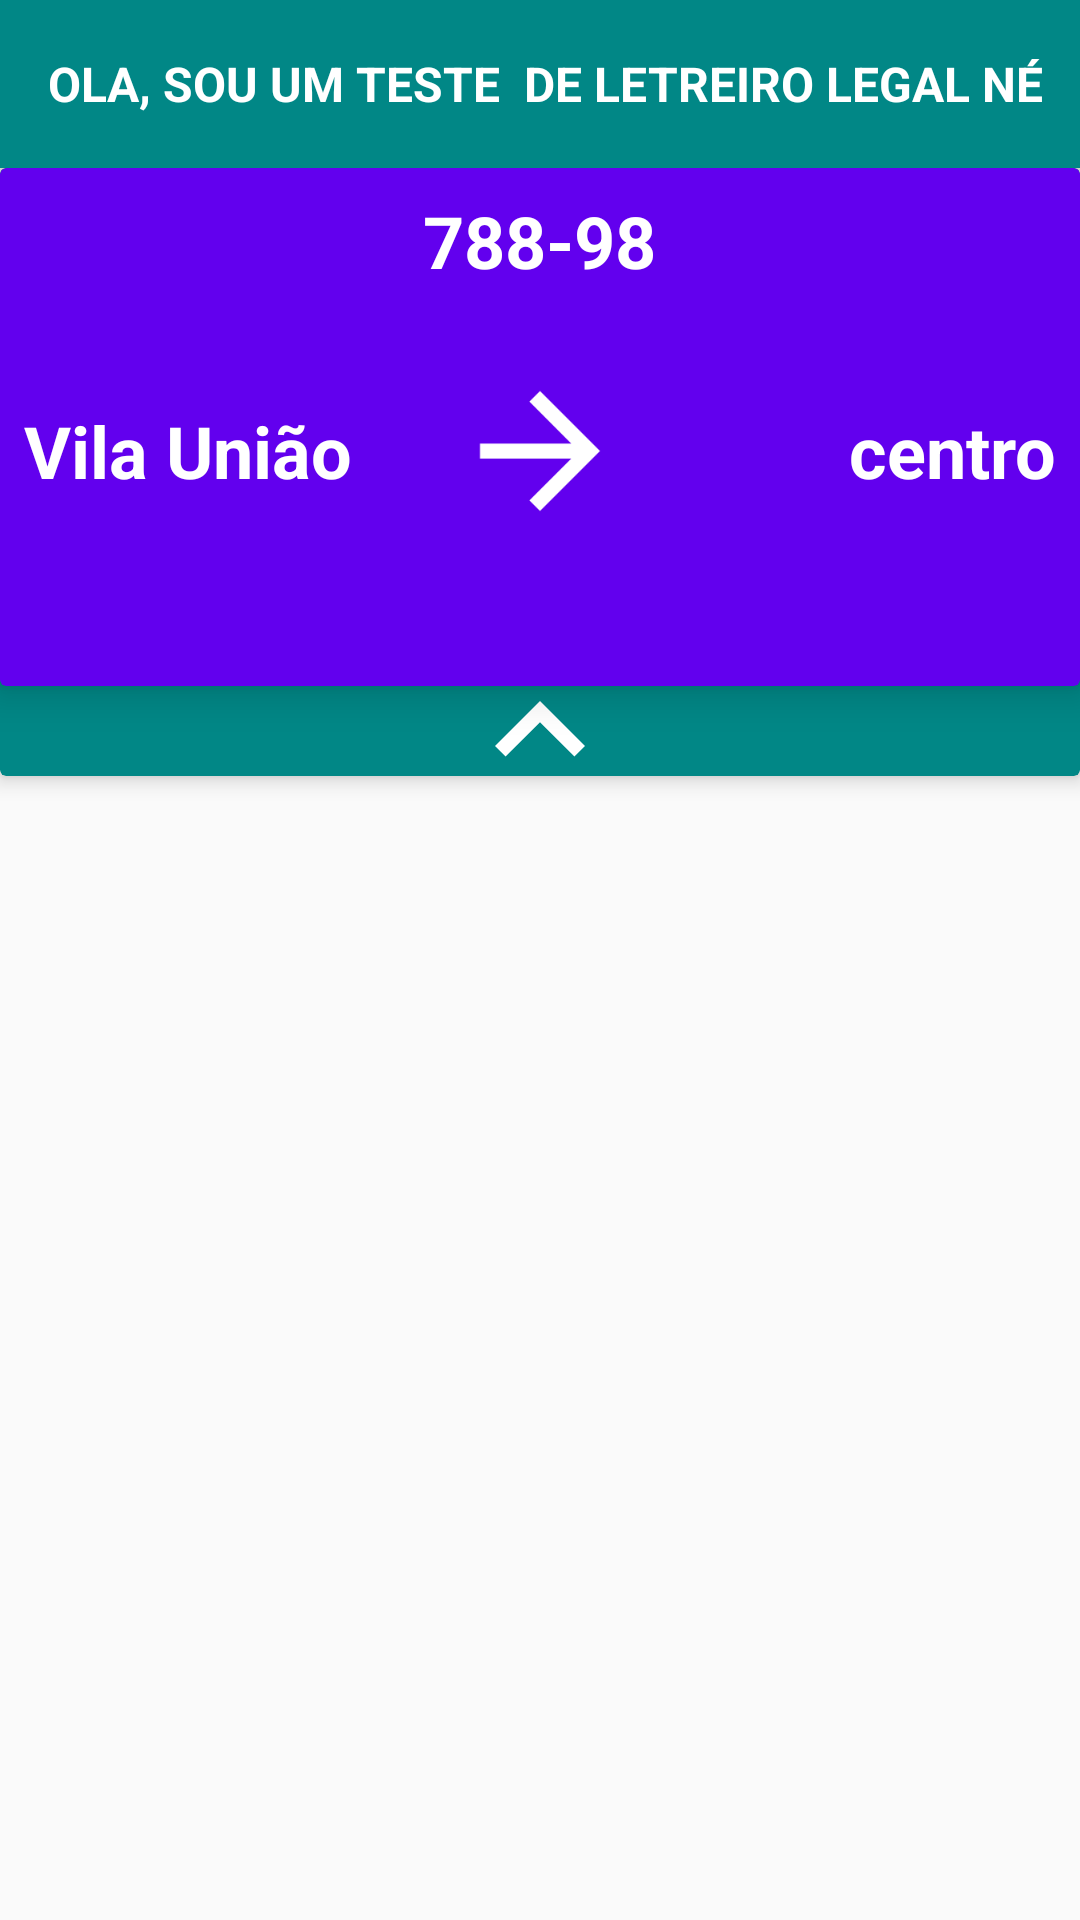

Point at icon controls on the screen. Image size 1080×1920, points as [x,y].
arrow forward: [539,451]
keyboard arrow up: [540,729]
